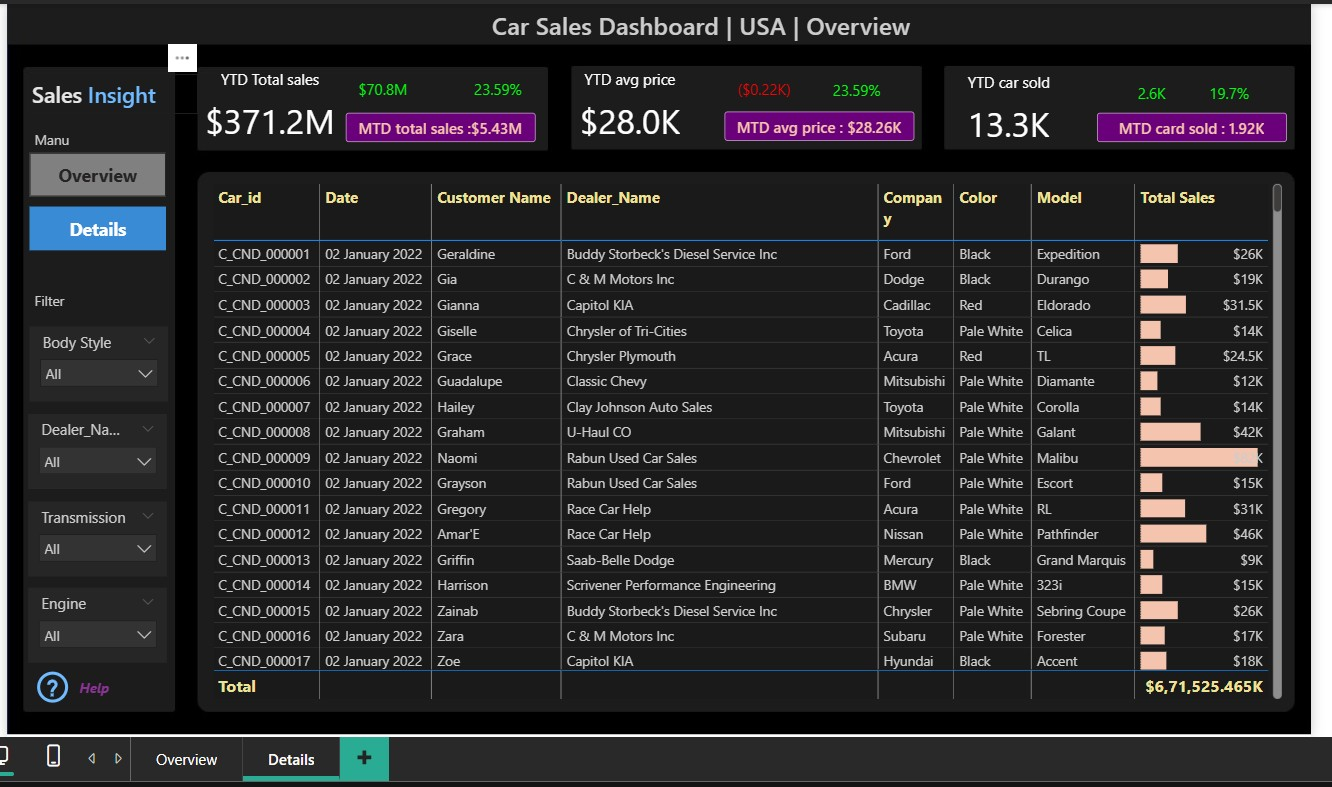

What the dashboard file says about the page in this screenshot:
{"tool":"powerbi","page":{"name":"Details","canvas":[1280,720],"ordinal":1},"visuals":[{"type":"cardVisual","title":"YTD Total sales","fields":{"Data":["car_data.YTD total sales"]},"box":[166.2,63.8,185,83.8],"z":0},{"type":"cardVisual","fields":{"Data":["car_data.YOY total sales"]},"box":[332.5,58.8,73.8,46.2],"z":1000},{"type":"cardVisual","fields":{"Data":["car_data.YOY sales growth"]},"box":[445,58.8,73.8,46.2],"z":2000},{"type":"cardVisual","fields":{"Data":["car_data.MTD KPI"]},"box":[332.5,106.2,186.2,28.8],"z":3000},{"type":"cardVisual","title":"YTD avg price","fields":{"Data":["car_data.YTD avg price"]},"box":[518.8,63.8,185,83.8],"z":4000},{"type":"cardVisual","fields":{"Data":["car_data.Avg price diff"]},"box":[703.8,58.8,78.8,46.2],"z":5000},{"type":"cardVisual","fields":{"Data":["car_data.YOY sales growth"]},"box":[797.5,60,73.8,46.2],"z":6000},{"type":"cardVisual","fields":{"Data":["car_data.MTD avg price KPI"]},"box":[703.8,105,186.2,28.8],"z":7000},{"type":"cardVisual","title":"YTD car sold","fields":{"Data":["car_data.YTD card sold"]},"box":[885,66.2,197.5,83.8],"z":8000},{"type":"cardVisual","fields":{"Data":["car_data.car sold diff"]},"box":[1085,62.5,78.8,46.2],"z":9000},{"type":"cardVisual","fields":{"Data":["car_data.YOY card sold growth"]},"box":[1163.5,62,73.8,46.2],"z":10000},{"type":"cardVisual","fields":{"Data":["car_data.MTD car sold KPI"]},"box":[1069.7,107,186.2,28.8],"z":11000},{"type":"textbox","box":[471.2,0,440.5,42.9],"z":12000},{"type":"slicer","fields":{"Values":["car_data.Body Style"]},"box":[22.1,316.8,136.2,73.6],"z":13000},{"type":"slicer","fields":{"Values":["car_data.Dealer_Name"]},"box":[20.9,402.3,136.2,73.6],"z":14000},{"type":"slicer","fields":{"Values":["car_data.Transmission"]},"box":[20.9,487.7,136.2,73.6],"z":15000},{"type":"slicer","fields":{"Values":["car_data.Engine"]},"box":[20.9,573.2,136.2,73.6],"z":16000},{"type":"textbox","box":[22.1,277.3,136.2,39.3],"z":17000},{"type":"textbox","box":[19.6,68.7,168.1,39.3],"z":18000},{"type":"textbox","box":[22.1,119,101.8,28.2],"z":19000},{"type":"tableEx","fields":{"Values":["car_data.Car_id","car_data.Date","car_data.Customer Name","car_data.Dealer_Name","car_data.Company","car_data.Color","car_data.Model","car_data.Total Sales"]},"box":[196.3,171.8,1060.1,515.3],"z":20000},{"type":"pageNavigator","box":[22.1,146,135,96.9],"z":20001},{"type":"actionButton","title":"Help","box":[24.5,650.3,79.8,40.5],"z":20002}]}

Visuals, with their boxes on the page's 1280x720 design canvas (x1, y1, x2, y2). These are canvas units, not pixel positions in the 1332x787 screenshot, which may show the page scaled, cropped or inside an application window:
"YTD Total sales" cardVisual: (x1=166, y1=64, x2=351, y2=148)
cardVisual - car_data.YOY total sales: (x1=332, y1=59, x2=406, y2=105)
cardVisual - car_data.YOY sales growth: (x1=445, y1=59, x2=519, y2=105)
cardVisual - car_data.MTD KPI: (x1=332, y1=106, x2=519, y2=135)
"YTD avg price" cardVisual: (x1=519, y1=64, x2=704, y2=148)
cardVisual - car_data.Avg price diff: (x1=704, y1=59, x2=783, y2=105)
cardVisual - car_data.YOY sales growth: (x1=798, y1=60, x2=871, y2=106)
cardVisual - car_data.MTD avg price KPI: (x1=704, y1=105, x2=890, y2=134)
"YTD car sold" cardVisual: (x1=885, y1=66, x2=1082, y2=150)
cardVisual - car_data.car sold diff: (x1=1085, y1=62, x2=1164, y2=109)
cardVisual - car_data.YOY card sold growth: (x1=1164, y1=62, x2=1237, y2=108)
cardVisual - car_data.MTD car sold KPI: (x1=1070, y1=107, x2=1256, y2=136)
textbox: (x1=471, y1=0, x2=912, y2=43)
slicer - car_data.Body Style: (x1=22, y1=317, x2=158, y2=390)
slicer - car_data.Dealer_Name: (x1=21, y1=402, x2=157, y2=476)
slicer - car_data.Transmission: (x1=21, y1=488, x2=157, y2=561)
slicer - car_data.Engine: (x1=21, y1=573, x2=157, y2=647)
textbox: (x1=22, y1=277, x2=158, y2=317)
textbox: (x1=20, y1=69, x2=188, y2=108)
textbox: (x1=22, y1=119, x2=124, y2=147)
tableEx - car_data.Car_id x car_data.Date: (x1=196, y1=172, x2=1256, y2=687)
pageNavigator: (x1=22, y1=146, x2=157, y2=243)
"Help" actionButton: (x1=24, y1=650, x2=104, y2=691)
